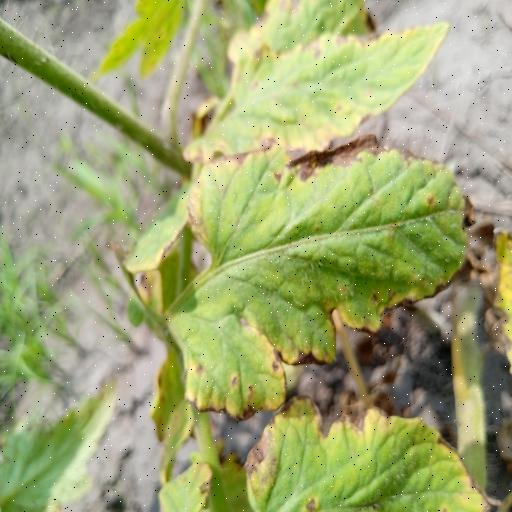Tomato_Brown_Spots: (138, 132, 503, 418)
